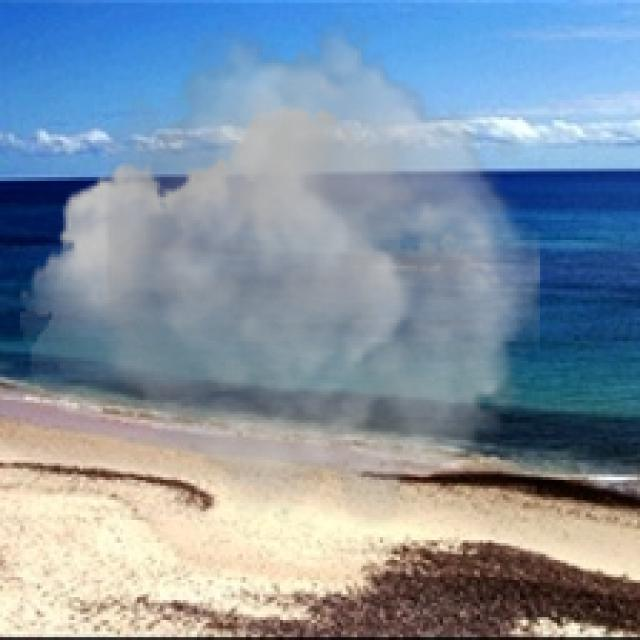smoke: (20, 11, 540, 528)
